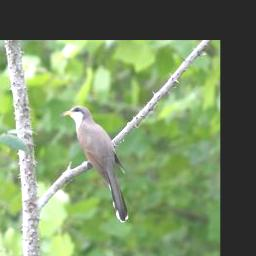Cuckoo: (60, 103, 130, 224)
